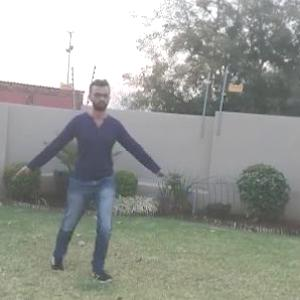land: (32, 92, 145, 248)
